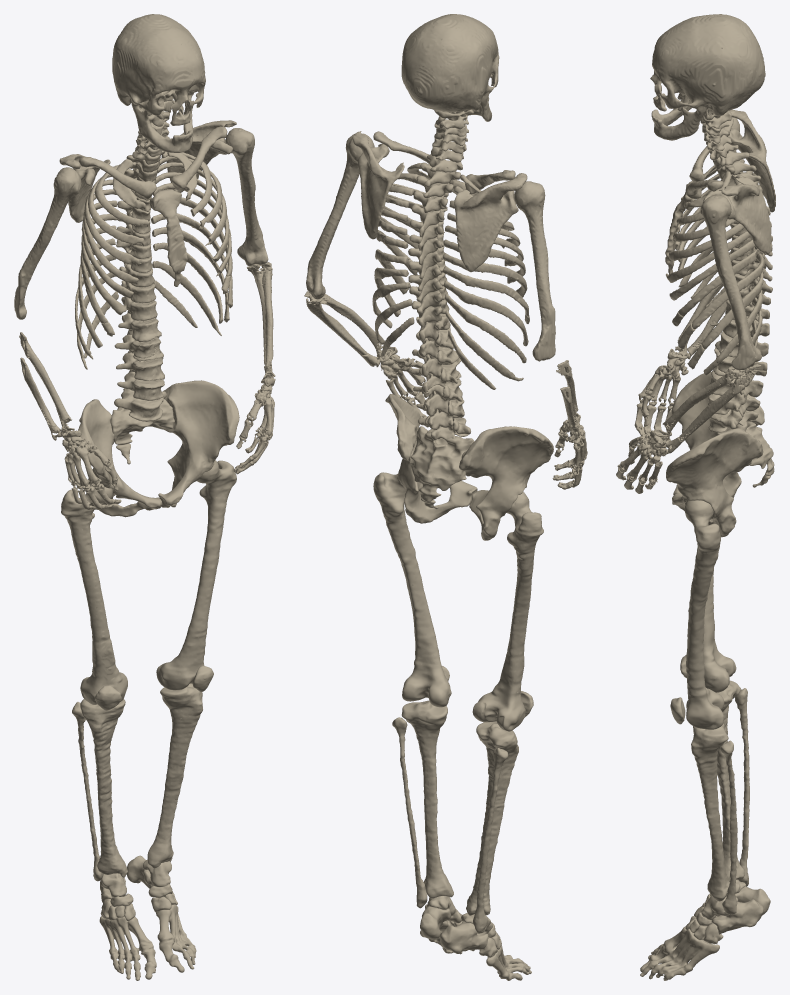
The model's file is vhf_denver_ct_adult_female.skeletal.LOD1.glb.
3 renders of one model, left to right at view 1: azimuth 30°, elevation 25°; view 2: azimuth 150°, elevation 25°; view 3: azimuth 270°, elevation 25°, orthographic. The views are drawn at different scales.
Parts seen in each view (by area): view 1: VHF_DENVER_CT.ADULT.FEMALE.SKELETAL.SKULL_CRANIUM_AND_MANDIB, VHF_DENVER_CT.ADULT.FEMALE.SKELETAL.HIP_BONE_OS_COXAE.L, VHF_DENVER_CT.ADULT.FEMALE.SKELETAL.FEMUR.L, VHF_DENVER_CT.ADULT.FEMALE.SKELETAL.FEMUR.R, VHF_DENVER_CT.ADULT.FEMALE.SKELETAL.TIBIA.L, VHF_DENVER_CT.ADULT.FEMALE.SKELETAL.METATARSALS_AND_PHALANGE (×2), VHF_DENVER_CT.ADULT.FEMALE.SKELETAL.TIBIA.R, VHF_DENVER_CT.ADULT.FEMALE.SKELETAL.HIP_BONE_OS_COXAE.R, VHF_DENVER_CT.ADULT.FEMALE.SKELETAL.HAND_BONES.R, VHF_DENVER_CT.ADULT.FEMALE.SKELETAL.HUMERUS.L, VHF_DENVER_CT.ADULT.FEMALE.SKELETAL.HUMERUS.R, VHF_DENVER_CT.ADULT.FEMALE.SKELETAL.HAND_BONES.L (+25 smaller); view 2: VHF_DENVER_CT.ADULT.FEMALE.SKELETAL.SKULL_CRANIUM_AND_MANDIB, VHF_DENVER_CT.ADULT.FEMALE.SKELETAL.HIP_BONE_OS_COXAE.R, VHF_DENVER_CT.ADULT.FEMALE.SKELETAL.FEMUR.L, VHF_DENVER_CT.ADULT.FEMALE.SKELETAL.FEMUR.R, VHF_DENVER_CT.ADULT.FEMALE.SKELETAL.SCAPULA.R, VHF_DENVER_CT.ADULT.FEMALE.SKELETAL.TIBIA.L, VHF_DENVER_CT.ADULT.FEMALE.SKELETAL.HIP_BONE_OS_COXAE.L, VHF_DENVER_CT.ADULT.FEMALE.SKELETAL.TIBIA.R, VHF_DENVER_CT.ADULT.FEMALE.SKELETAL.HUMERUS.R, VHF_DENVER_CT.ADULT.FEMALE.SKELETAL.SACRUM, VHF_DENVER_CT.ADULT.FEMALE.SKELETAL.SCAPULA.L, VHF_DENVER_CT.ADULT.FEMALE.SKELETAL.HUMERUS.L (+18 smaller); view 3: VHF_DENVER_CT.ADULT.FEMALE.SKELETAL.SKULL_CRANIUM_AND_MANDIB, VHF_DENVER_CT.ADULT.FEMALE.SKELETAL.FEMUR.L, VHF_DENVER_CT.ADULT.FEMALE.SKELETAL.HIP_BONE_OS_COXAE.L, VHF_DENVER_CT.ADULT.FEMALE.SKELETAL.HUMERUS.L, VHF_DENVER_CT.ADULT.FEMALE.SKELETAL.TIBIA.L, VHF_DENVER_CT.ADULT.FEMALE.SKELETAL.HAND_BONES.R, VHF_DENVER_CT.ADULT.FEMALE.SKELETAL.SCAPULA.L, VHF_DENVER_CT.ADULT.FEMALE.SKELETAL.METATARSALS_AND_PHALANGE, VHF_DENVER_CT.ADULT.FEMALE.SKELETAL.HAND_BONES.L, VHF_DENVER_CT.ADULT.FEMALE.SKELETAL.HIP_BONE_OS_COXAE.R, VHF_DENVER_CT.ADULT.FEMALE.SKELETAL.FEMUR.R, VHF_DENVER_CT.ADULT.FEMALE.SKELETAL.SCAPULA.R (+25 smaller).
Boxes of the visible parts, x1,y1,x2,y2 form: VHF_DENVER_CT.ADULT.FEMALE.SKELETAL.SKULL_CRANIUM_AND_MANDIB: (112, 14, 205, 152); VHF_DENVER_CT.ADULT.FEMALE.SKELETAL.HIP_BONE_OS_COXAE.L: (158, 380, 239, 507); VHF_DENVER_CT.ADULT.FEMALE.SKELETAL.FEMUR.L: (156, 460, 236, 690); VHF_DENVER_CT.ADULT.FEMALE.SKELETAL.FEMUR.R: (61, 484, 127, 704); VHF_DENVER_CT.ADULT.FEMALE.SKELETAL.TIBIA.L: (147, 683, 202, 868); VHF_DENVER_CT.ADULT.FEMALE.SKELETAL.METATARSALS_AND_PHALANGE (×2): (99, 904, 196, 980); VHF_DENVER_CT.ADULT.FEMALE.SKELETAL.TIBIA.R: (80, 699, 127, 877); VHF_DENVER_CT.ADULT.FEMALE.SKELETAL.HIP_BONE_OS_COXAE.R: (78, 399, 162, 517); VHF_DENVER_CT.ADULT.FEMALE.SKELETAL.HAND_BONES.R: (48, 425, 121, 510); VHF_DENVER_CT.ADULT.FEMALE.SKELETAL.HUMERUS.L: (225, 128, 268, 266); VHF_DENVER_CT.ADULT.FEMALE.SKELETAL.HUMERUS.R: (14, 167, 81, 319); VHF_DENVER_CT.ADULT.FEMALE.SKELETAL.HAND_BONES.L: (234, 365, 275, 474); VHF_DENVER_CT.ADULT.FEMALE.SKELETAL.SKULL_CRANIUM_AND_MANDIB: (401, 14, 499, 121); VHF_DENVER_CT.ADULT.FEMALE.SKELETAL.HIP_BONE_OS_COXAE.R: (459, 426, 553, 540); VHF_DENVER_CT.ADULT.FEMALE.SKELETAL.FEMUR.L: (373, 472, 451, 707); VHF_DENVER_CT.ADULT.FEMALE.SKELETAL.FEMUR.R: (472, 492, 543, 731); VHF_DENVER_CT.ADULT.FEMALE.SKELETAL.SCAPULA.R: (454, 173, 527, 272); VHF_DENVER_CT.ADULT.FEMALE.SKELETAL.TIBIA.L: (401, 700, 453, 898); VHF_DENVER_CT.ADULT.FEMALE.SKELETAL.HIP_BONE_OS_COXAE.L: (385, 394, 477, 523); VHF_DENVER_CT.ADULT.FEMALE.SKELETAL.TIBIA.R: (466, 721, 518, 915); VHF_DENVER_CT.ADULT.FEMALE.SKELETAL.HUMERUS.R: (514, 181, 555, 361); VHF_DENVER_CT.ADULT.FEMALE.SKELETAL.SACRUM: (410, 426, 474, 502); VHF_DENVER_CT.ADULT.FEMALE.SKELETAL.SCAPULA.L: (352, 131, 404, 239); VHF_DENVER_CT.ADULT.FEMALE.SKELETAL.HUMERUS.L: (306, 133, 374, 299); VHF_DENVER_CT.ADULT.FEMALE.SKELETAL.SKULL_CRANIUM_AND_MANDIB: (650, 14, 765, 140); VHF_DENVER_CT.ADULT.FEMALE.SKELETAL.FEMUR.L: (684, 500, 724, 729); VHF_DENVER_CT.ADULT.FEMALE.SKELETAL.HIP_BONE_OS_COXAE.L: (666, 428, 763, 537); VHF_DENVER_CT.ADULT.FEMALE.SKELETAL.HUMERUS.L: (700, 195, 761, 369); VHF_DENVER_CT.ADULT.FEMALE.SKELETAL.TIBIA.L: (691, 723, 735, 901); VHF_DENVER_CT.ADULT.FEMALE.SKELETAL.HAND_BONES.R: (634, 344, 698, 436); VHF_DENVER_CT.ADULT.FEMALE.SKELETAL.SCAPULA.L: (702, 177, 771, 254); VHF_DENVER_CT.ADULT.FEMALE.SKELETAL.METATARSALS_AND_PHALANGE: (640, 926, 719, 980); VHF_DENVER_CT.ADULT.FEMALE.SKELETAL.HAND_BONES.L: (616, 430, 683, 493); VHF_DENVER_CT.ADULT.FEMALE.SKELETAL.HIP_BONE_OS_COXAE.R: (671, 371, 764, 497); VHF_DENVER_CT.ADULT.FEMALE.SKELETAL.FEMUR.R: (703, 519, 736, 692); VHF_DENVER_CT.ADULT.FEMALE.SKELETAL.SCAPULA.R: (726, 109, 775, 212).
Bounding box in the file's own units: 0.4782 × 1.71 × 0.2582.
